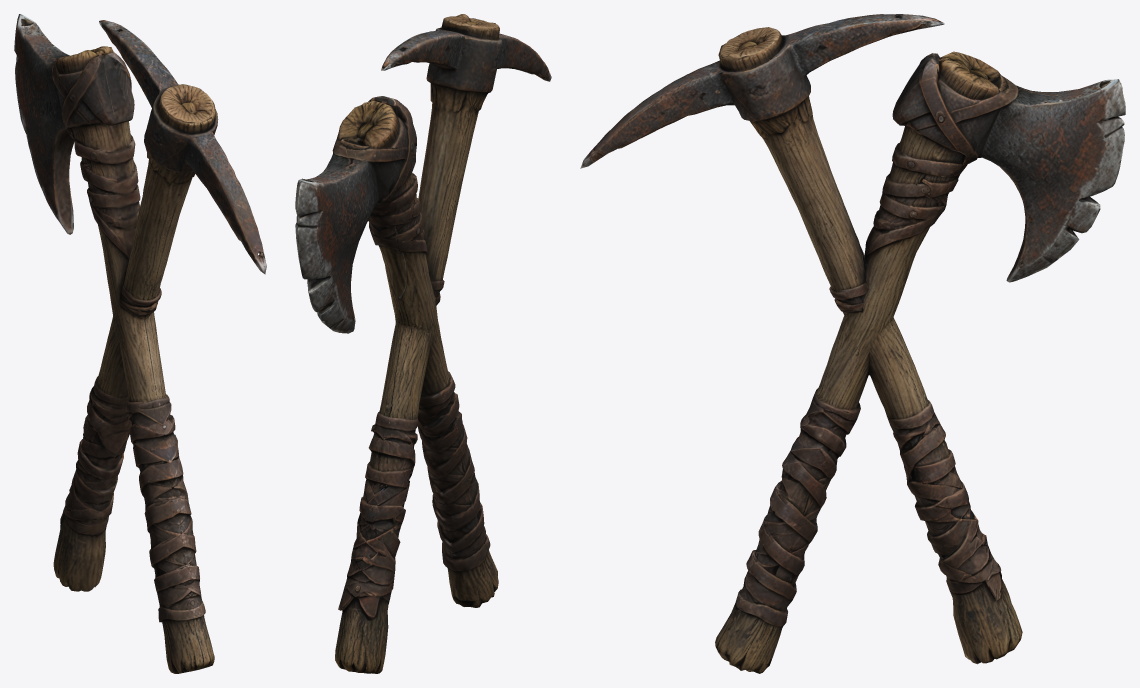
File: Tools.fbx
3 views of the same model, side by side, from view 1: azimuth 30°, elevation 25°; view 2: azimuth 150°, elevation 25°; view 3: azimuth 270°, elevation 25° (orthographic). The views are drawn at different scales.
Visible parts, largest first — view 1: texture_mapping; view 2: texture_mapping; view 3: texture_mapping.
Part boxes in pixels (x1=…): texture_mapping: x1=14, y1=14, x2=266, y2=673; texture_mapping: x1=295, y1=14, x2=551, y2=673; texture_mapping: x1=580, y1=14, x2=1125, y2=673.
Bounding box in the file's own units: 0.1067 × 0.7561 × 0.9969.
Materials: 1 (1 with a texture image).
